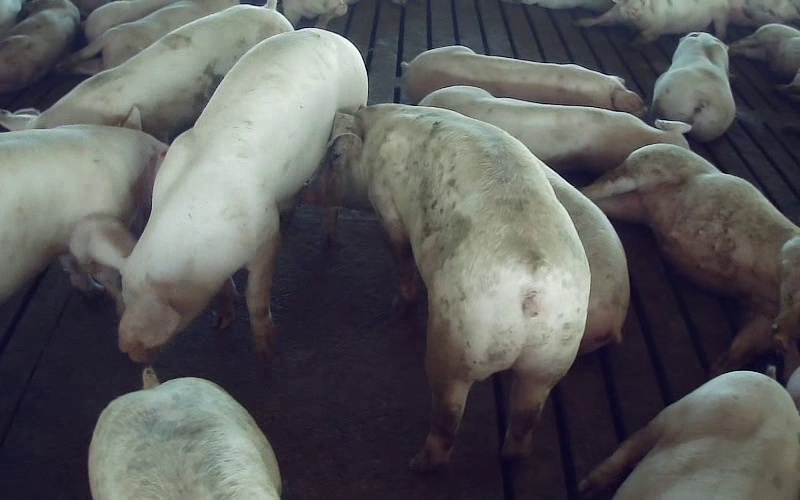pig: (314, 104, 589, 469), (70, 29, 366, 362), (584, 144, 799, 372), (0, 0, 292, 140), (0, 106, 166, 301), (580, 371, 799, 499), (88, 367, 279, 499), (420, 86, 690, 174), (404, 46, 645, 115), (652, 32, 735, 141), (0, 0, 79, 93), (576, 0, 729, 42)
